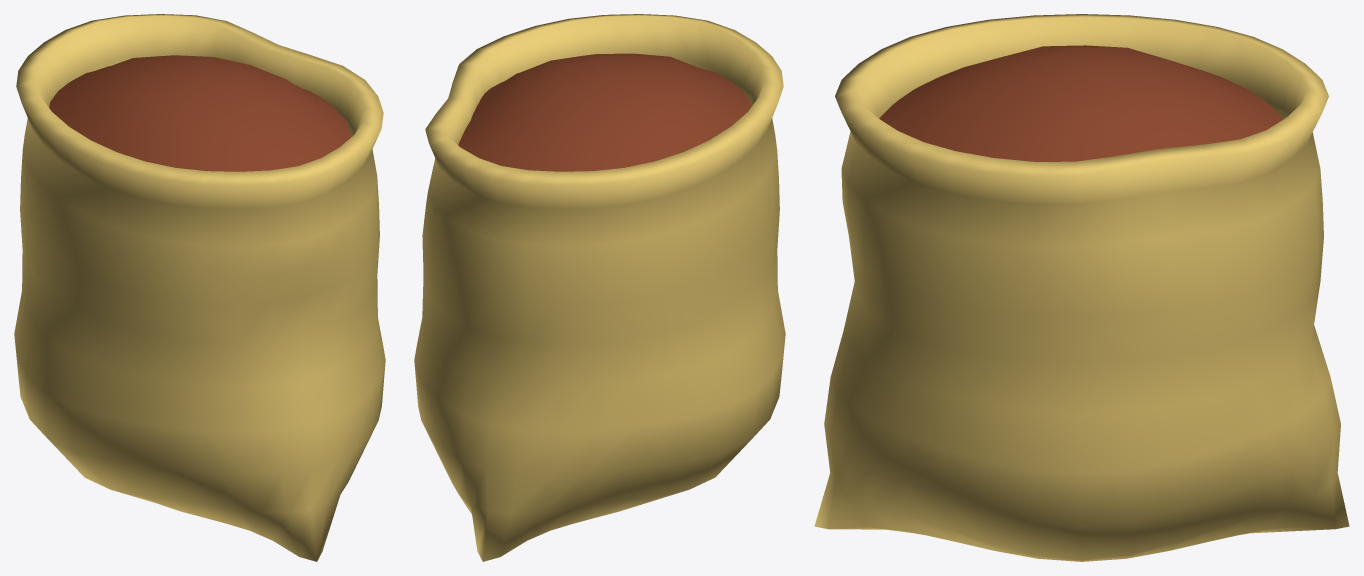
Rendered from bagstandig_01.fbx.
3 views of the same model, side by side, from view 1: azimuth 30°, elevation 25°; view 2: azimuth 150°, elevation 25°; view 3: azimuth 270°, elevation 25° (orthographic). The views are drawn at different scales.
Visible parts, largest first — view 1: Cube.061; view 2: Cube.061; view 3: Cube.061.
Part boxes in pixels (x1=…): Cube.061: x1=14, y1=14, x2=385, y2=561; Cube.061: x1=414, y1=14, x2=785, y2=561; Cube.061: x1=814, y1=14, x2=1349, y2=561.
Size of the model in its own units: 90.27 by 112 by 117.
